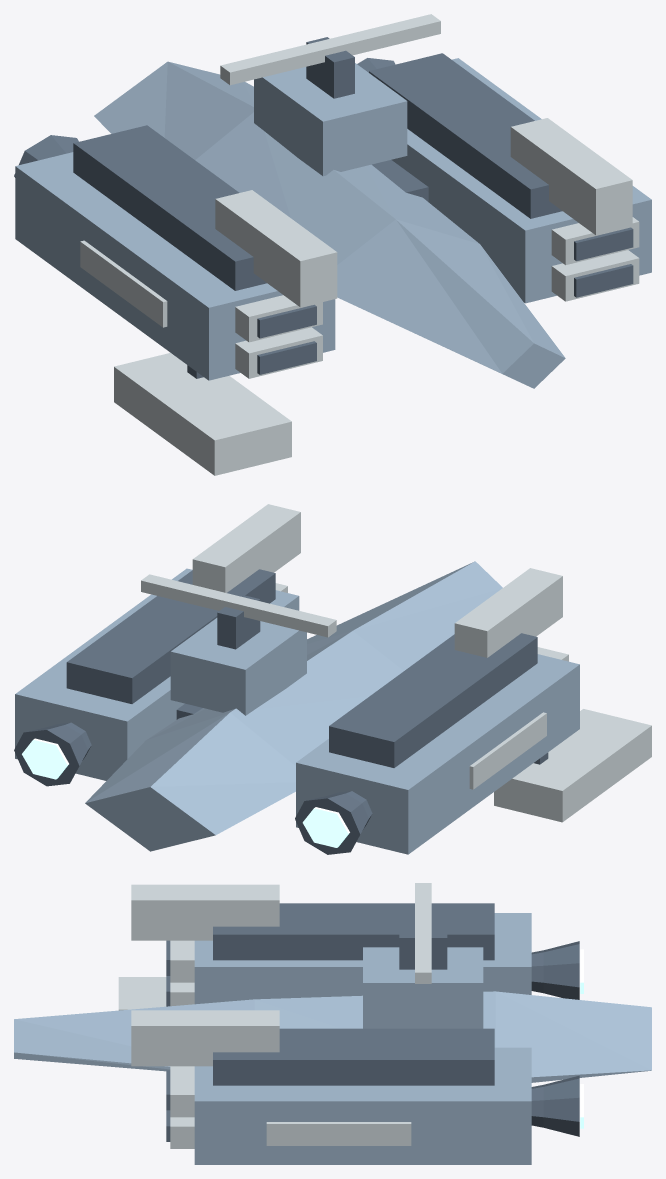
The picture shows the model from 3 angles, top to bottom: view 1: azimuth 30°, elevation 25°; view 2: azimuth 150°, elevation 25°; view 3: azimuth 270°, elevation 25°; orthographic projection. The views are drawn at different scales.
Size of the model in its own units: 13.16 by 6.06 by 17.22.
